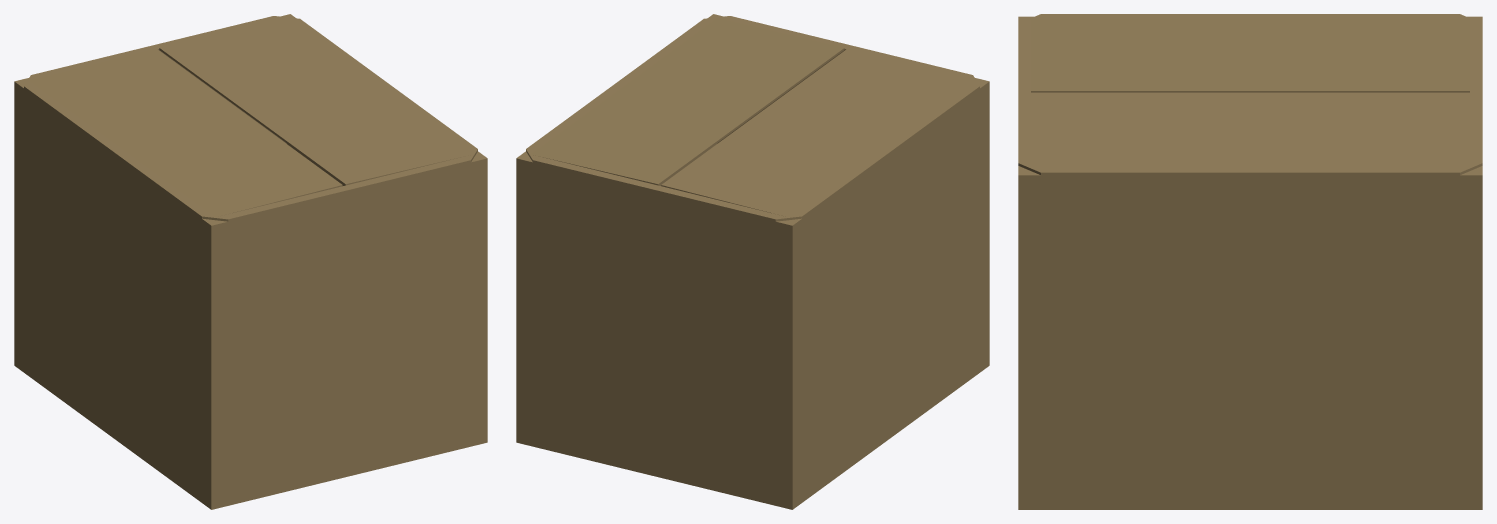
The model's file is Karton 1.fbx.
3 views of the same model, side by side, from view 1: azimuth 30°, elevation 25°; view 2: azimuth 150°, elevation 25°; view 3: azimuth 270°, elevation 25° (orthographic). The views are drawn at different scales.
Parts seen in each view (by area): view 1: pCube1; view 2: pCube1; view 3: pCube1.
Part boxes in pixels (bbox=[...]): pCube1: bbox=[14, 14, 487, 509]; pCube1: bbox=[516, 14, 989, 509]; pCube1: bbox=[1018, 14, 1482, 509].
Bounding box in the file's own units: 2.98 × 2.96 × 3.68.
